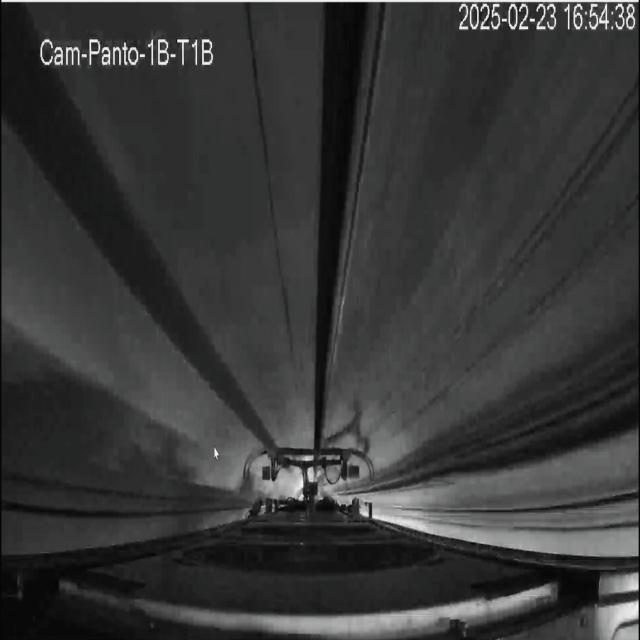Camera Stamp: (31, 24, 217, 74)
Date Stamp: (457, 3, 637, 33)
No - Spark: (246, 446, 373, 514)
